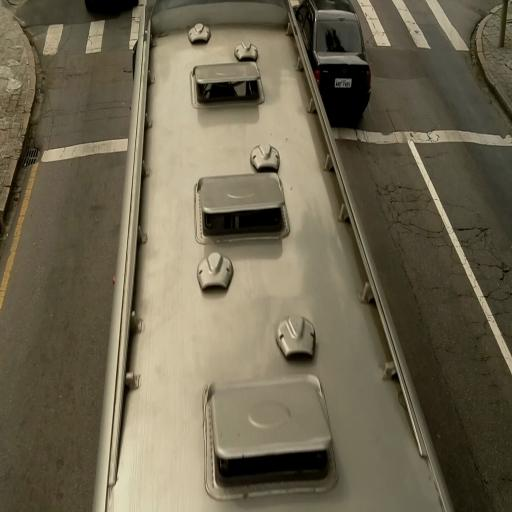car: (296, 0, 371, 126), (85, 0, 140, 16)
